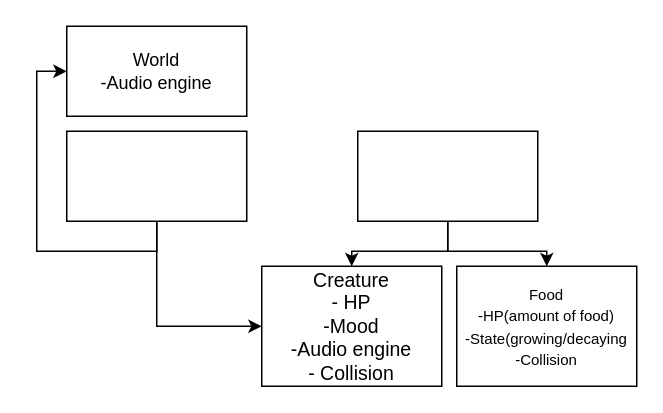
The diagram is 663 pixels wide and 413 high, and some of its shapes have lost their labels. Here are the shapes that lost their labels. From the top down, the centre of each, then its label:
the point at 156,175: Audio Engine
the point at 447,175: Entity
